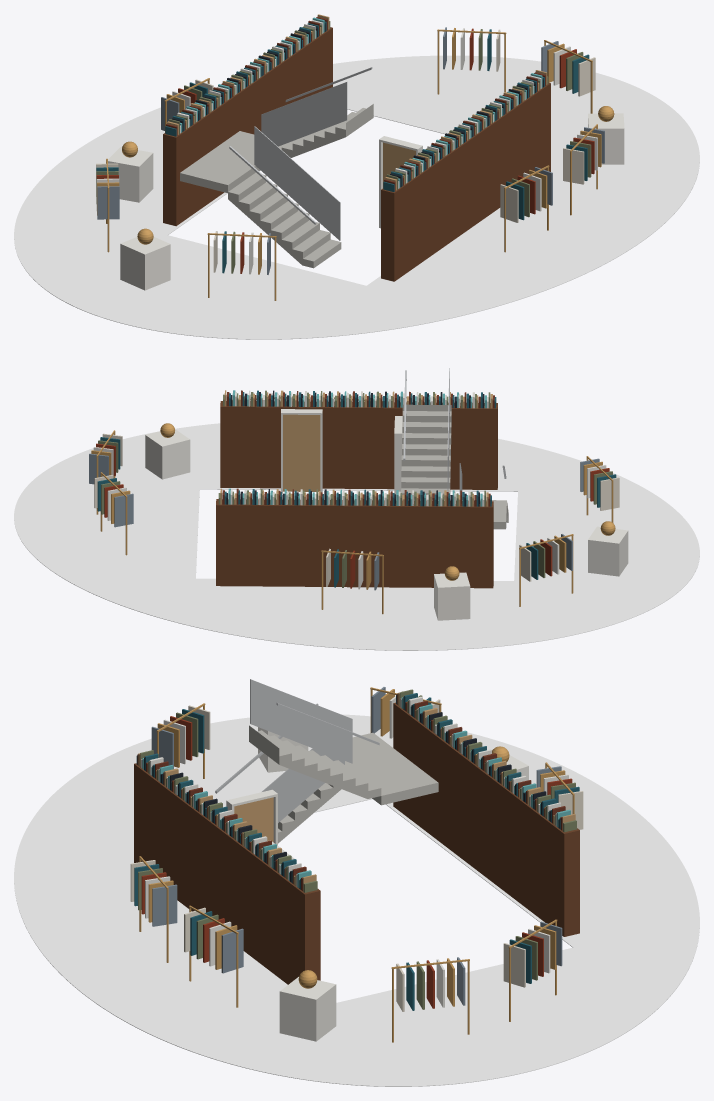
3 renders of one model, top to bottom at view 1: azimuth 30°, elevation 25°; view 2: azimuth 150°, elevation 25°; view 3: azimuth 270°, elevation 25°, orthographic. The views are drawn at different scales.
Parts seen in each view (by area): view 1: Pisos, Mobiliario, Escaleras, Barandales, Puertas; view 2: Pisos, Mobiliario, Escaleras, Puertas, Barandales; view 3: Pisos, Mobiliario, Escaleras, Barandales, Puertas.
Boxes of the visible parts, x1,y1,x2,y2 form: Pisos: (14,55,699,339); Mobiliario: (96,14,624,300); Escaleras: (180,104,373,268); Barandales: (229,67,372,240); Puertas: (379,104,489,228); Pisos: (14,423,699,650); Mobiliario: (89,390,628,620); Escaleras: (401,404,508,529); Puertas: (281,409,402,500); Barandales: (403,368,506,499); Pisos: (14,714,699,1086); Mobiliario: (130,687,583,1042); Escaleras: (249,725,438,843); Barandales: (215,679,379,822); Puertas: (226,789,294,859).
Bounding box in the file's own units: 16.96 × 4.03 × 13.2.
